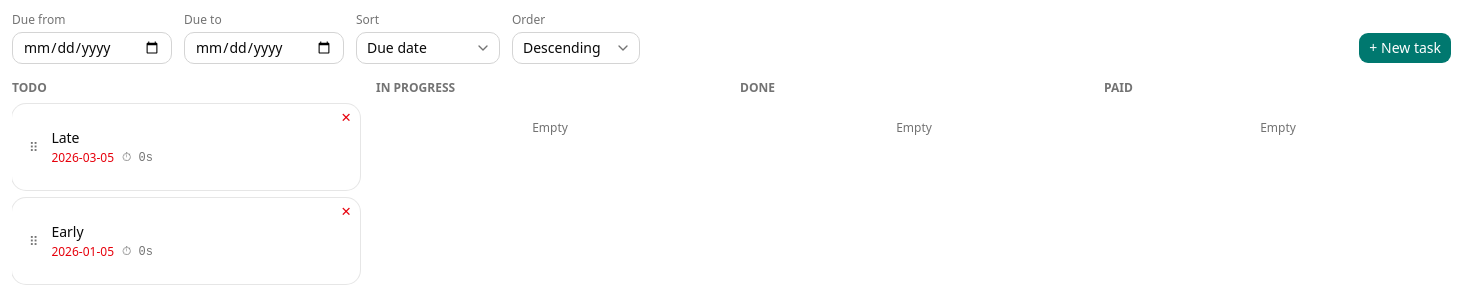
Test: TasksTab › hides tasks whose due date falls before the from filter
The width and height of the screenshot is (1464, 302).
In the date field labelled "Due from": (92, 48) [12, 32, 172, 64], type "2026-02-01"
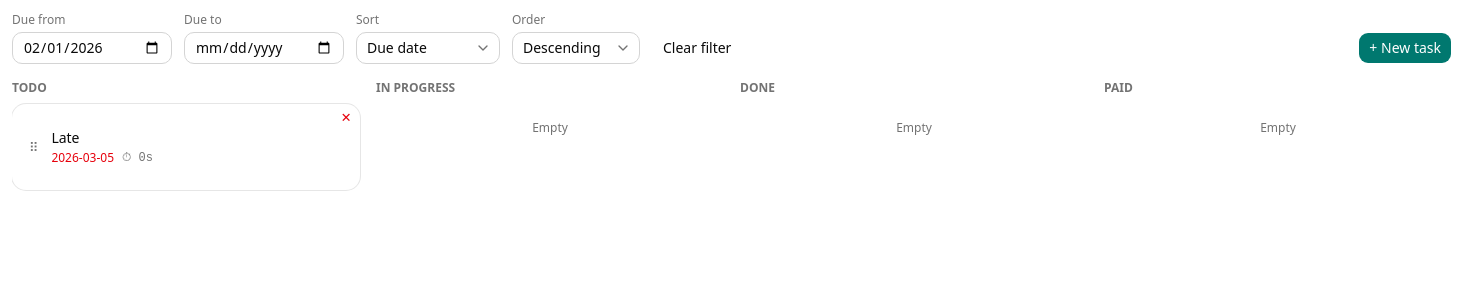
Expected: the text "Late" is shown, [51, 128, 80, 147]
Result: the text "Early" is gone
